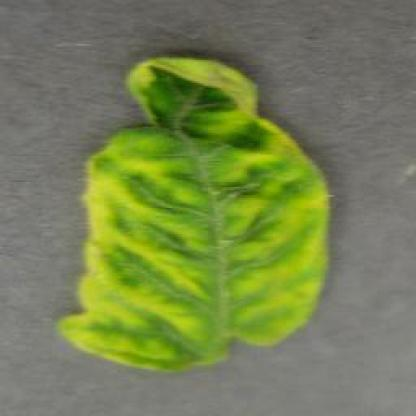good leaf: (70, 43, 314, 375)
